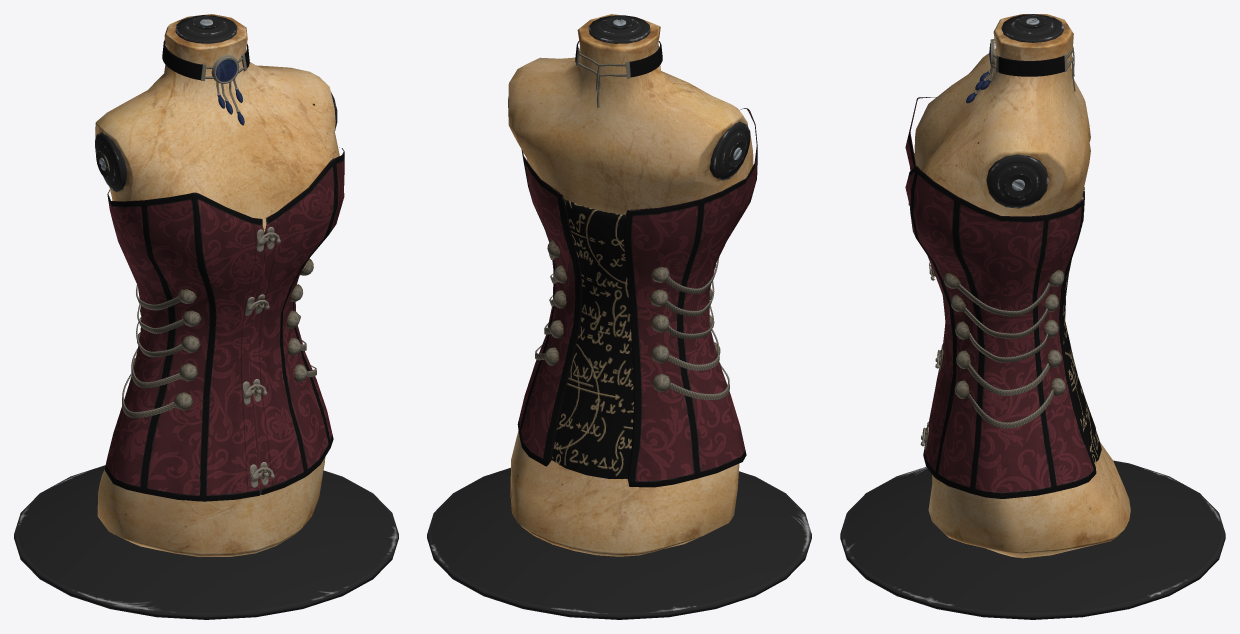
File: Corset.glb
3 views of the same model, side by side, from view 1: azimuth 30°, elevation 25°; view 2: azimuth 150°, elevation 25°; view 3: azimuth 270°, elevation 25° (orthographic).
Visible parts, largest first — view 1: Corset; view 2: Corset; view 3: Corset.
Part boxes in pixels (x1,y1,x2,y2): Corset: (14,14,398,619); Corset: (427,14,811,619); Corset: (840,14,1225,619).
Size of the model in its own units: 0.0389 by 0.0578 by 0.0389.
1 material, 1 textured.
